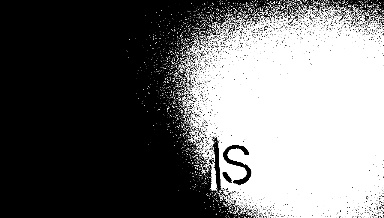S: (219, 137, 254, 189)
